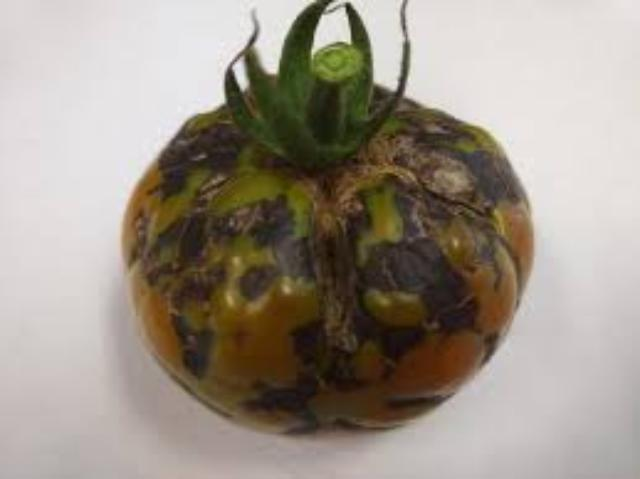defect: (115, 0, 541, 445)
